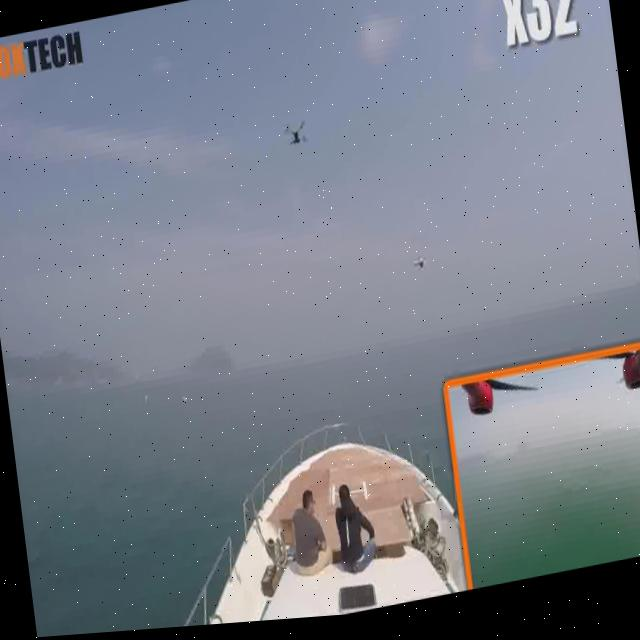drone: (254, 73, 337, 192)
